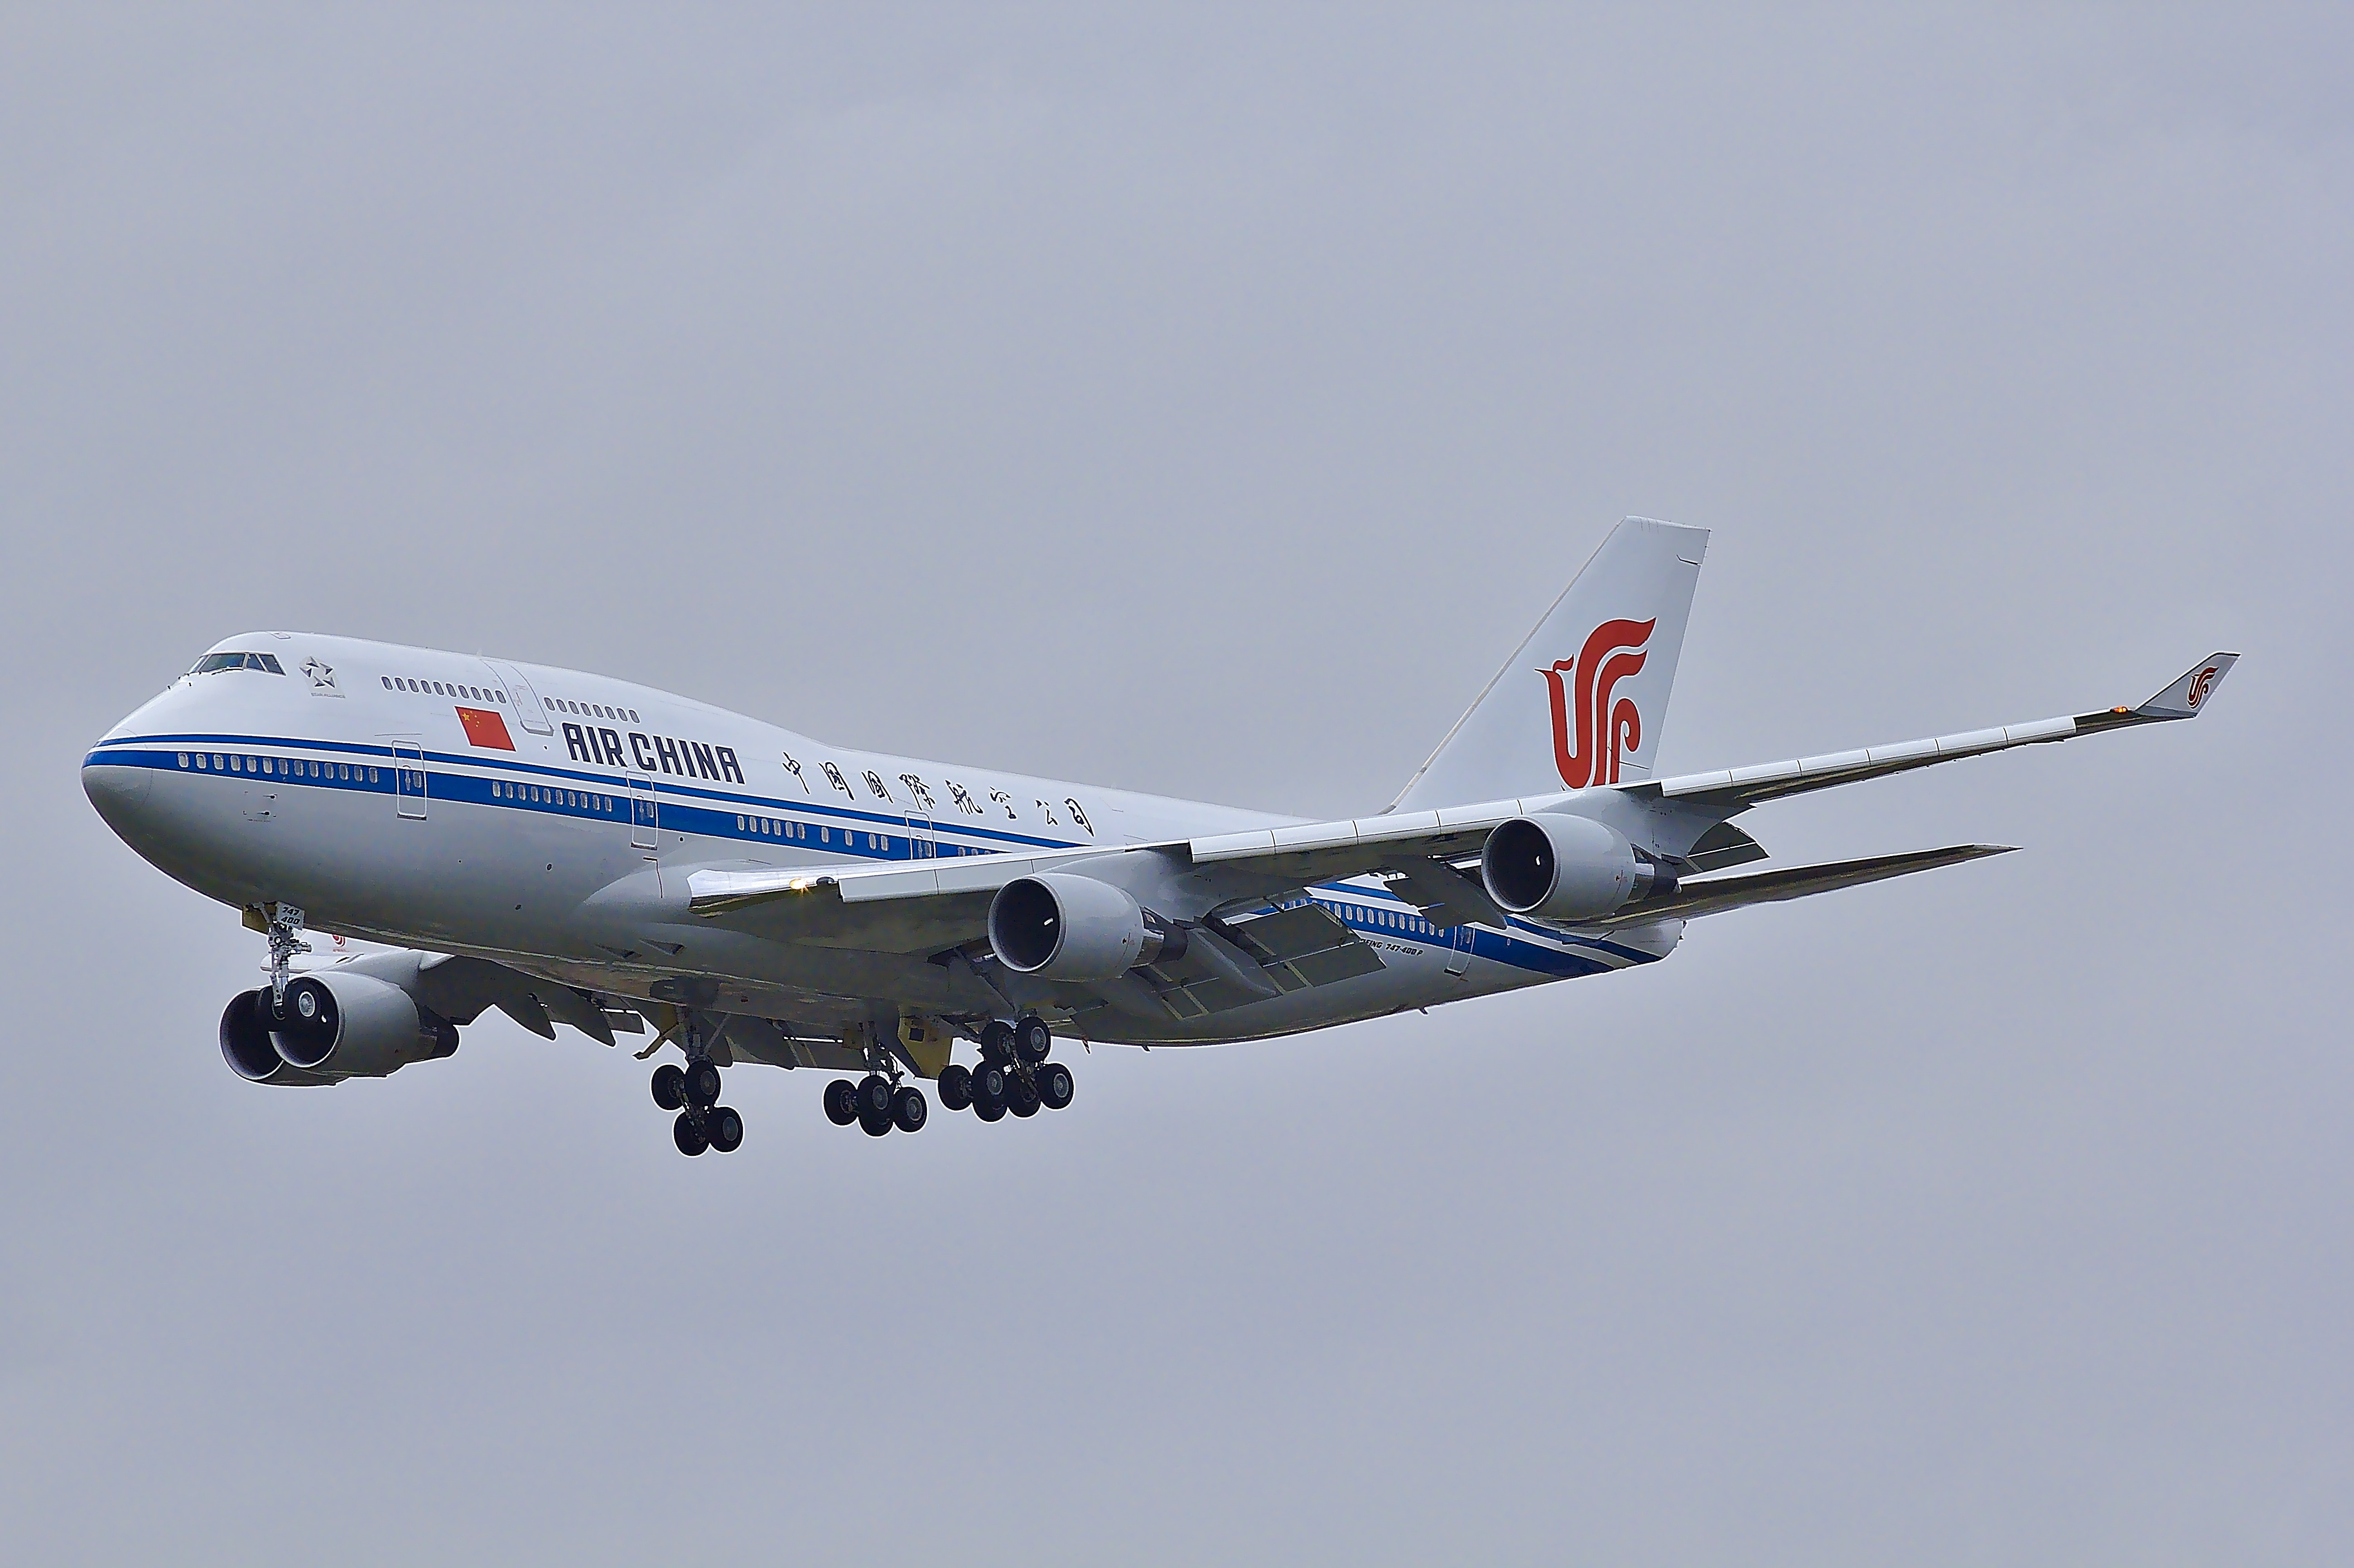airplane: (79, 168, 2254, 1188)
